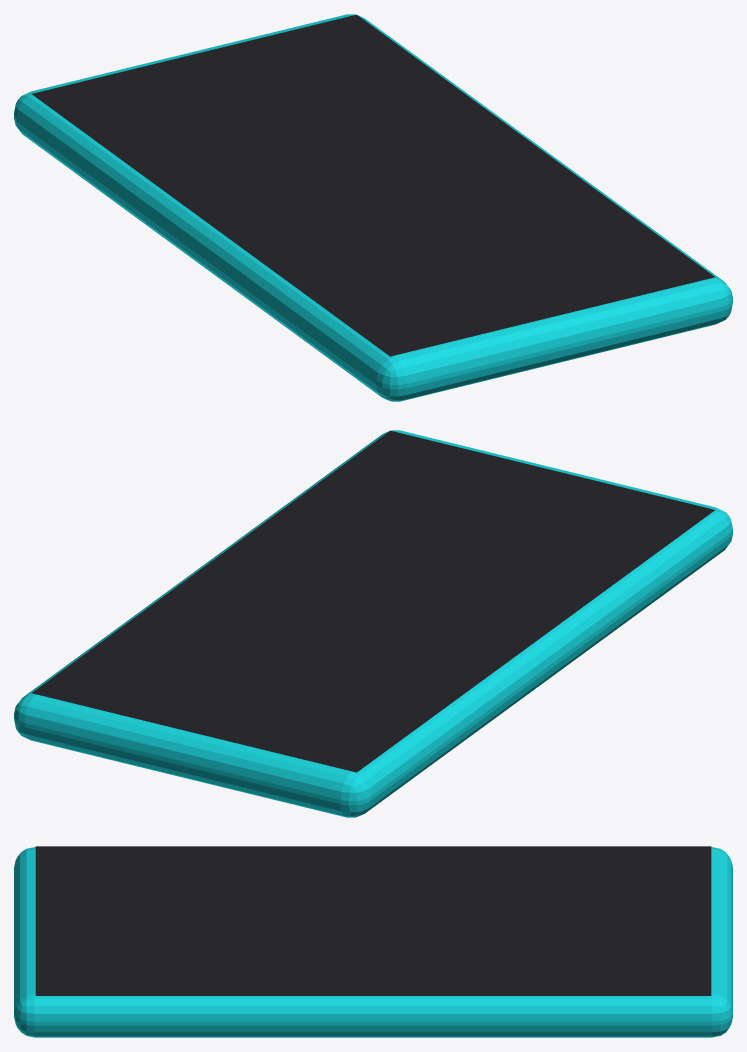
File: Phone_746.glb
The picture shows the model from 3 angles, top to bottom: view 1: azimuth 30°, elevation 25°; view 2: azimuth 150°, elevation 25°; view 3: azimuth 270°, elevation 25°; orthographic projection. The views are drawn at different scales.
Visible parts, largest first — view 1: Phone_Screen, Phone_Body; view 2: Phone_Screen, Phone_Body; view 3: Phone_Screen, Phone_Body.
Boxes of the visible parts, x1,y1,x2,y2 form: Phone_Screen: (32,14,715,356); Phone_Body: (14,14,732,401); Phone_Screen: (31,430,714,772); Phone_Body: (14,430,732,817); Phone_Screen: (35,846,711,995); Phone_Body: (14,847,732,1037).
Bounding box in the file's own units: 0.0793 × 0.0095 × 0.1482.
